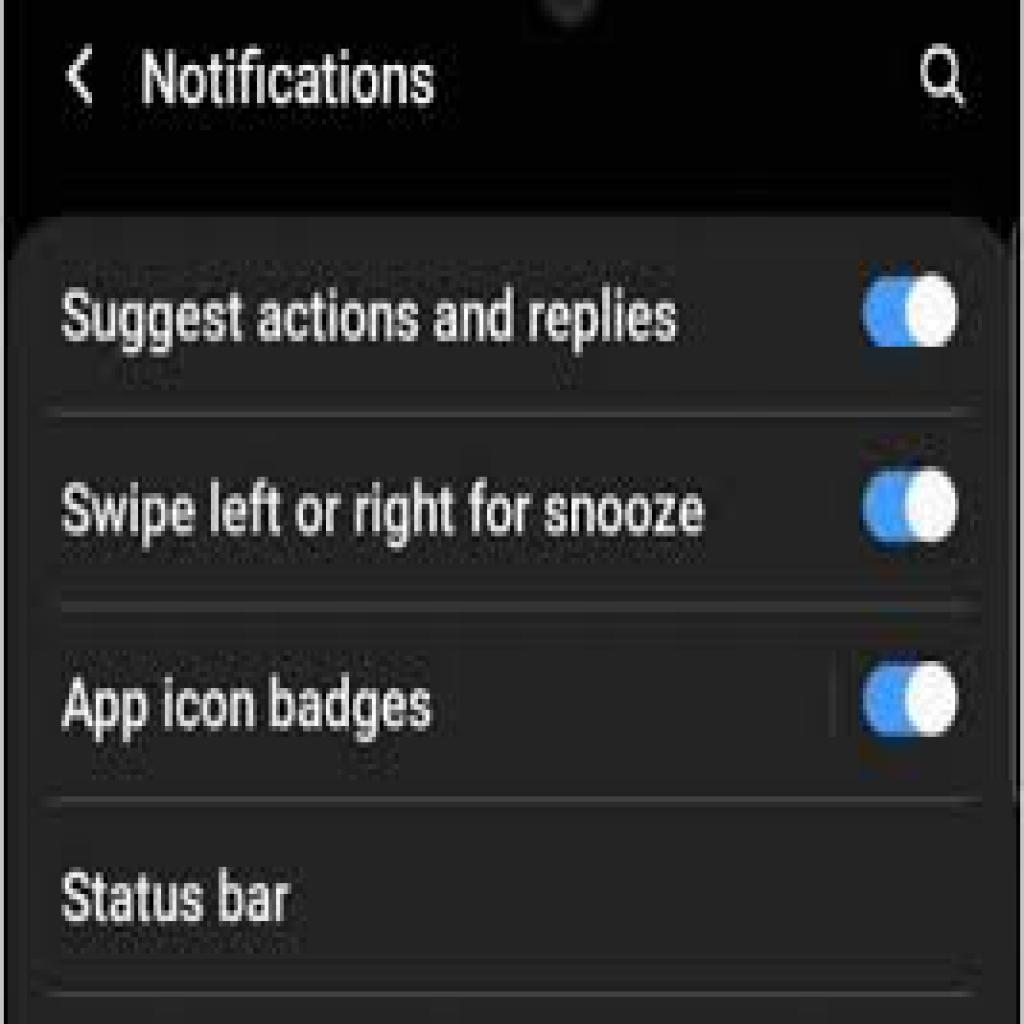icon: (921, 47, 967, 112), (64, 44, 94, 104)
label: (57, 277, 687, 364), (58, 481, 707, 550), (62, 672, 441, 747), (137, 44, 434, 113), (54, 862, 295, 937)
switch: (864, 660, 958, 739), (863, 469, 959, 543), (863, 276, 958, 349)
